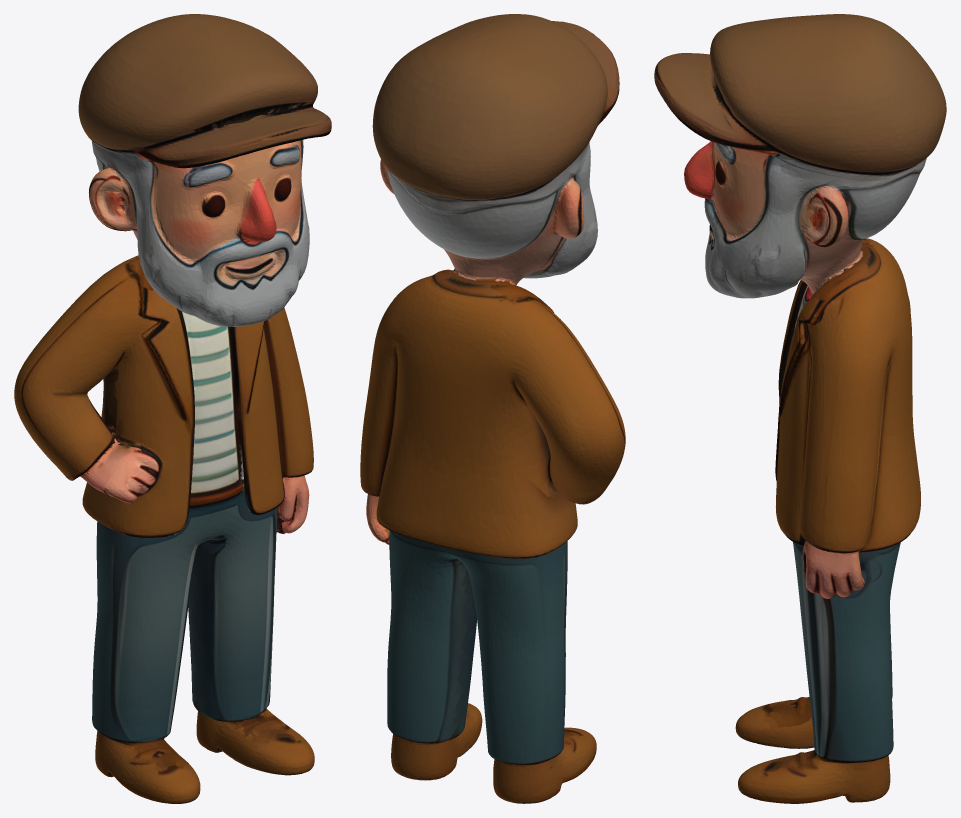
File: newMan2.glb
3 renders of one model, left to right at view 1: azimuth 30°, elevation 25°; view 2: azimuth 150°, elevation 25°; view 3: azimuth 270°, elevation 25°, orthographic.
Parts seen in each view (by area): view 1: dc798ea9-17da-4458-91ad-766277b949b9_texturing.obj; view 2: dc798ea9-17da-4458-91ad-766277b949b9_texturing.obj; view 3: dc798ea9-17da-4458-91ad-766277b949b9_texturing.obj.
Boxes of the visible parts, bbox=[...] form: dc798ea9-17da-4458-91ad-766277b949b9_texturing.obj: bbox=[14, 14, 331, 803]; dc798ea9-17da-4458-91ad-766277b949b9_texturing.obj: bbox=[360, 14, 625, 803]; dc798ea9-17da-4458-91ad-766277b949b9_texturing.obj: bbox=[654, 14, 946, 803].
Size of the model in its own units: 0.776 by 2 by 0.7123.
Materials: 1 (1 with a texture image).
